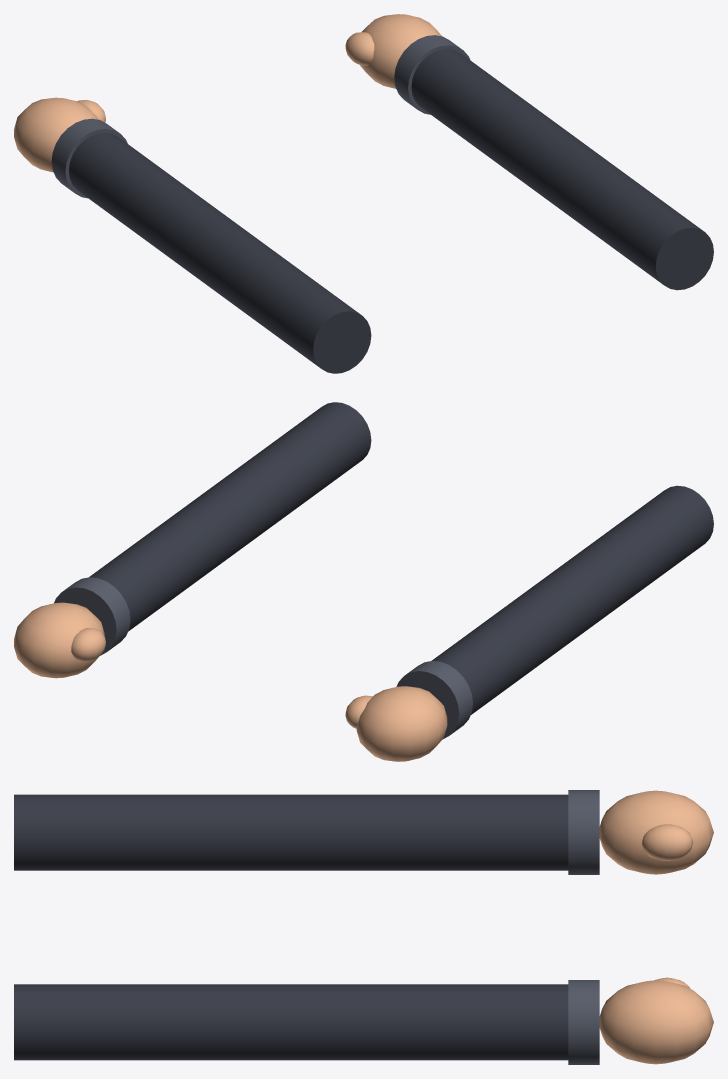
Rendered from hands.glb.
3 views of the same model, one above another, from view 1: azimuth 30°, elevation 25°; view 2: azimuth 150°, elevation 25°; view 3: azimuth 270°, elevation 25° (orthographic). The views are drawn at different scales.
Visible parts, largest first — view 1: hand_L_sleeve, hand_R_sleeve, hand_R_palm, hand_L_palm, hand_R_cuff, hand_L_cuff; view 2: hand_R_sleeve, hand_L_sleeve, hand_L_palm, hand_R_palm, hand_L_cuff, hand_R_cuff; view 3: hand_L_sleeve, hand_R_sleeve, hand_R_palm, hand_L_palm, hand_L_cuff, hand_R_cuff.
Boxes of the visible parts, x1,y1,x2,y2 form: hand_L_sleeve: [69, 132, 371, 373]; hand_R_sleeve: [411, 49, 713, 290]; hand_R_palm: [345, 14, 441, 88]; hand_L_palm: [14, 97, 105, 172]; hand_R_cuff: [394, 35, 470, 114]; hand_L_cuff: [51, 118, 127, 198]; hand_R_sleeve: [89, 402, 371, 631]; hand_L_sleeve: [431, 485, 713, 714]; hand_L_palm: [345, 686, 447, 761]; hand_R_palm: [14, 602, 105, 678]; hand_L_cuff: [396, 661, 472, 739]; hand_R_cuff: [54, 577, 130, 655]; hand_L_sleeve: [14, 794, 568, 870]; hand_R_sleeve: [14, 984, 568, 1060]; hand_R_palm: [599, 977, 713, 1064]; hand_L_palm: [599, 790, 713, 874]; hand_L_cuff: [568, 790, 599, 874]; hand_R_cuff: [568, 980, 599, 1064].
Bounding box in the file's own units: 0.49 × 0.076 × 0.6238.
